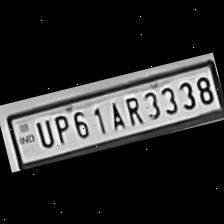1: (86, 101, 110, 135)
3: (137, 86, 163, 122), (173, 76, 198, 111), (155, 81, 180, 115)
6: (66, 106, 93, 140)
8: (190, 72, 216, 108)
A: (101, 96, 126, 130)
P: (47, 110, 74, 146)
R: (120, 92, 144, 126)
U: (31, 114, 57, 150)
